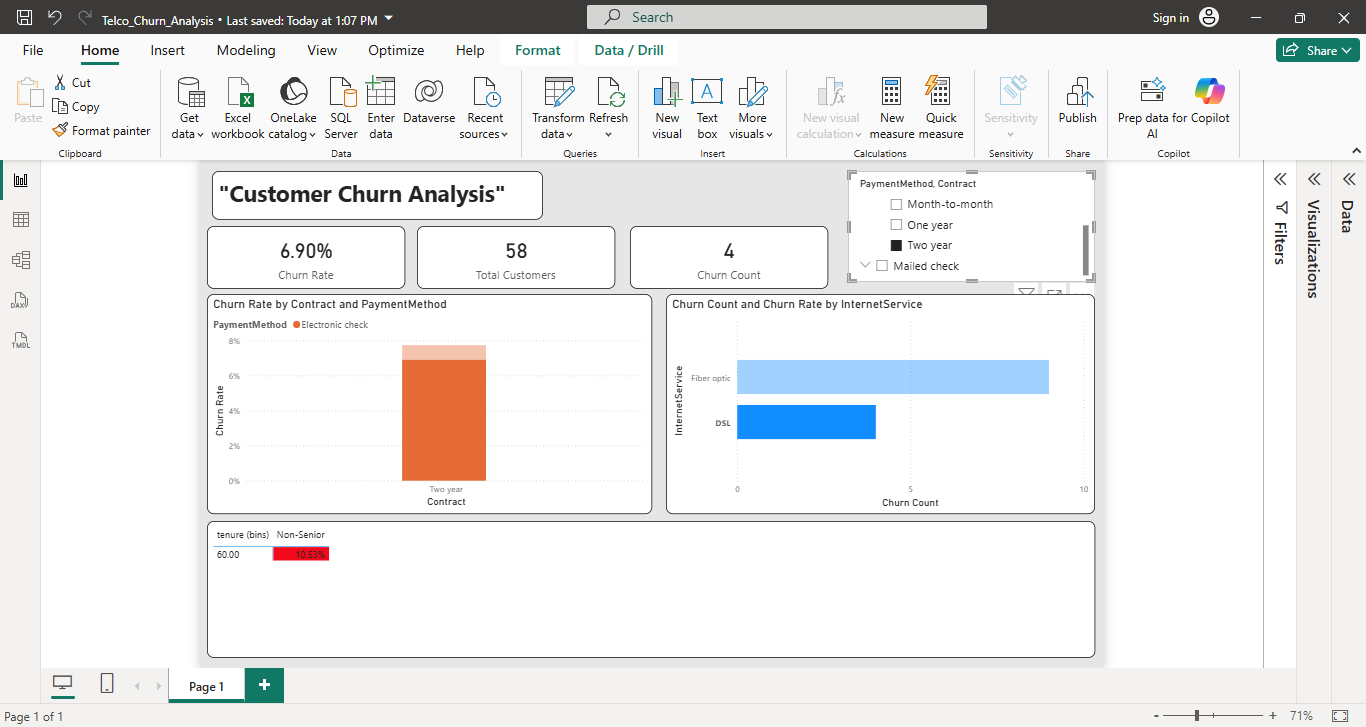

The dashboard page shown, as its layout file describes it:
{"tool":"powerbi","page":{"name":"Page 1","canvas":[1280,720],"ordinal":0},"visuals":[{"type":"card","fields":{"Values":["Telco-Customer-Churn.Total Customers"]},"box":[307.4,94.1,280.5,89],"z":0},{"type":"card","fields":{"Values":["Telco-Customer-Churn.Churn Rate"]},"box":[10.1,94.1,280.5,89],"z":1},{"type":"card","fields":{"Values":["Telco-Customer-Churn.Churn Count"]},"box":[609.8,94.1,280.5,89],"z":2},{"type":"slicer","fields":{"Values":["Telco-Customer-Churn.PaymentMethod","Telco-Customer-Churn.Contract"]},"box":[918.4,15.6,350.1,157.3],"z":3},{"type":"columnChart","fields":{"Category":["Telco-Customer-Churn.Contract"],"Y":["Telco-Customer-Churn.Churn Rate"],"Series":["Telco-Customer-Churn.PaymentMethod"]},"box":[9.9,189.9,630.7,311.8],"z":4},{"type":"clusteredBarChart","fields":{"Category":["Telco-Customer-Churn.InternetService"],"Y":["Telco-Customer-Churn.Churn Count"]},"box":[660.5,189.9,608,311.8],"z":5},{"type":"pivotTable","fields":{"Rows":["Telco-Customer-Churn.tenure (bins)"],"Values":["Telco-Customer-Churn.Churn Rate"],"Columns":["Telco-Customer-Churn.Demographic Status"]},"box":[9.9,511.7,1258.6,194.2],"z":6},{"type":"textbox","box":[16.8,15.1,468.7,68.9],"z":9}]}

Visuals, with their boxes on the page's 1280x720 design canvas (x1, y1, x2, y2). These are canvas units, not pixel positions in the 1366x727 screenshot, which may show the page scaled, cropped or inside an application window:
card - Telco-Customer-Churn.Total Customers: (307, 94, 588, 183)
card - Telco-Customer-Churn.Churn Rate: (10, 94, 291, 183)
card - Telco-Customer-Churn.Churn Count: (610, 94, 890, 183)
slicer - Telco-Customer-Churn.PaymentMethod x Telco-Customer-Churn.Contract: (918, 16, 1268, 173)
columnChart - Telco-Customer-Churn.Contract x Telco-Customer-Churn.Churn Rate: (10, 190, 641, 502)
clusteredBarChart - Telco-Customer-Churn.InternetService x Telco-Customer-Churn.Churn Count: (660, 190, 1268, 502)
pivotTable - Telco-Customer-Churn.tenure (bins) x Telco-Customer-Churn.Churn Rate: (10, 512, 1268, 706)
textbox: (17, 15, 486, 84)
